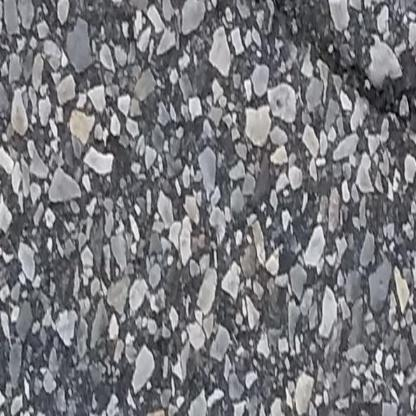Cracks: (216, 0, 416, 122)
